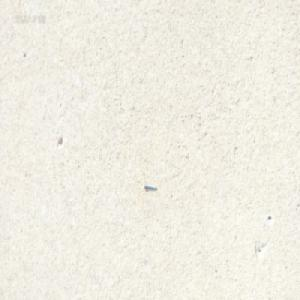Nail: (144, 182, 156, 191)
